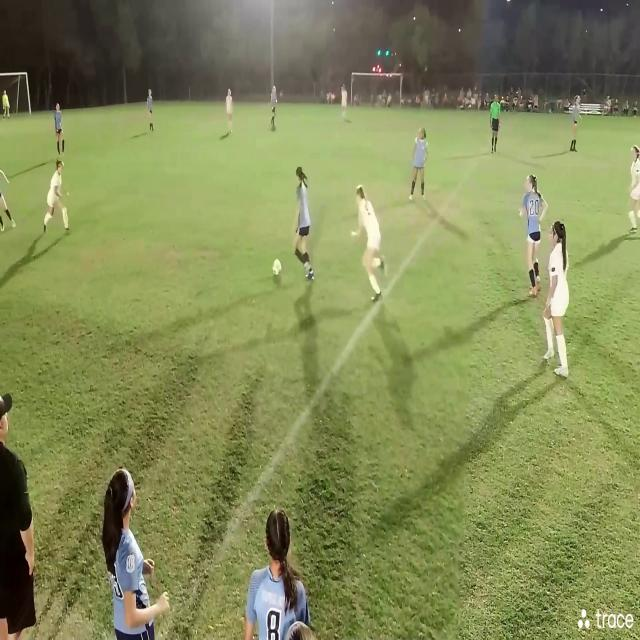ball: (270, 258, 285, 278)
team1: (94, 454, 168, 640), (246, 502, 311, 640), (524, 178, 547, 299), (294, 163, 314, 276), (411, 126, 431, 204), (55, 103, 67, 160), (572, 96, 581, 154), (270, 84, 280, 134), (146, 87, 155, 136)
team2: (544, 222, 574, 380), (351, 185, 387, 294), (42, 163, 68, 235), (628, 149, 640, 237), (224, 88, 234, 132), (339, 82, 349, 122)
